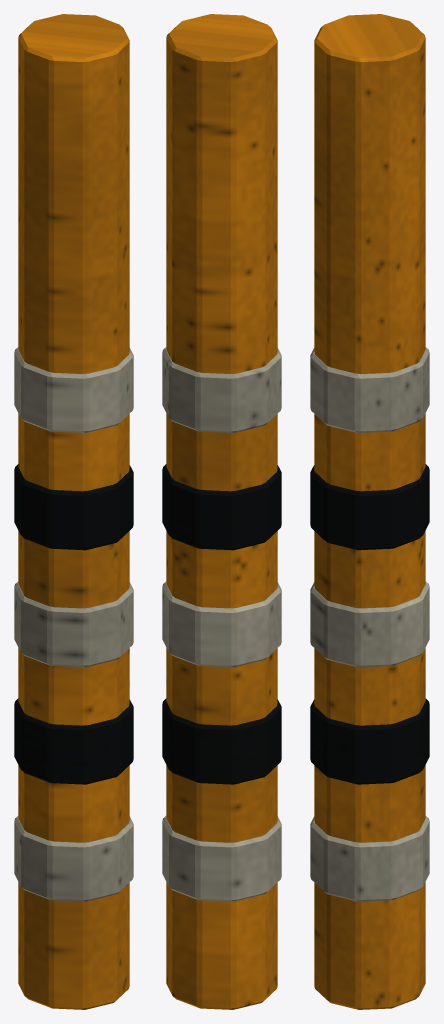
File: PROP-8CA8D5733259_lod1.glb
3 renders of one model, left to right at view 1: azimuth 30°, elevation 25°; view 2: azimuth 210°, elevation 25°; view 3: azimuth 330°, elevation 25°, orthographic.
Visible parts, largest first — view 1: bollard.006, reflective_bands.008, reflective_bands.009; view 2: bollard.006, reflective_bands.008, reflective_bands.009; view 3: bollard.006, reflective_bands.008, reflective_bands.009.
Boxes of the visible parts, x1,y1,x2,y2 form: bollard.006: (18, 14, 129, 1009); reflective_bands.008: (14, 347, 133, 901); reflective_bands.009: (14, 464, 133, 784); bollard.006: (166, 14, 277, 1009); reflective_bands.008: (162, 347, 281, 901); reflective_bands.009: (162, 464, 281, 784); bollard.006: (314, 14, 425, 1009); reflective_bands.008: (310, 347, 429, 901); reflective_bands.009: (310, 464, 429, 784).
Bounding box in the file's own units: 0.1475 × 1.3 × 0.1427.
Materials: 3 (3 with a texture image).
